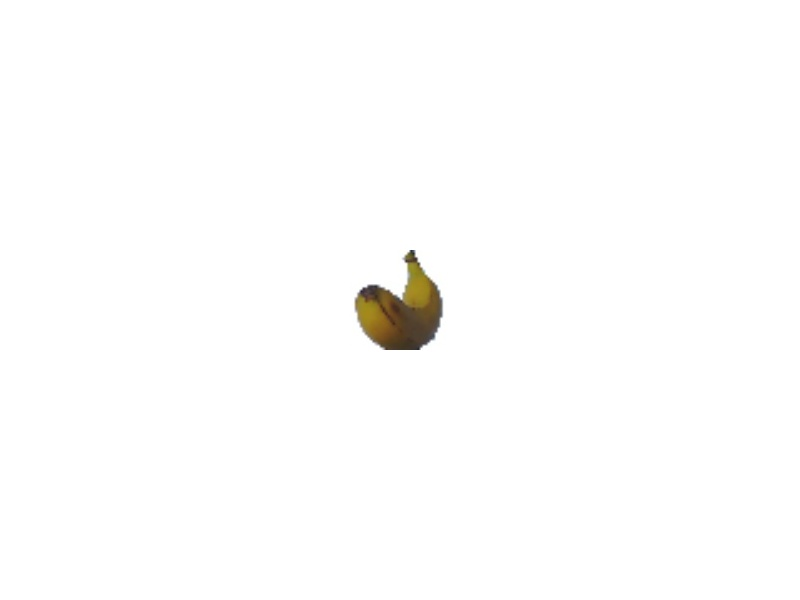banana: (355, 253, 446, 351)
